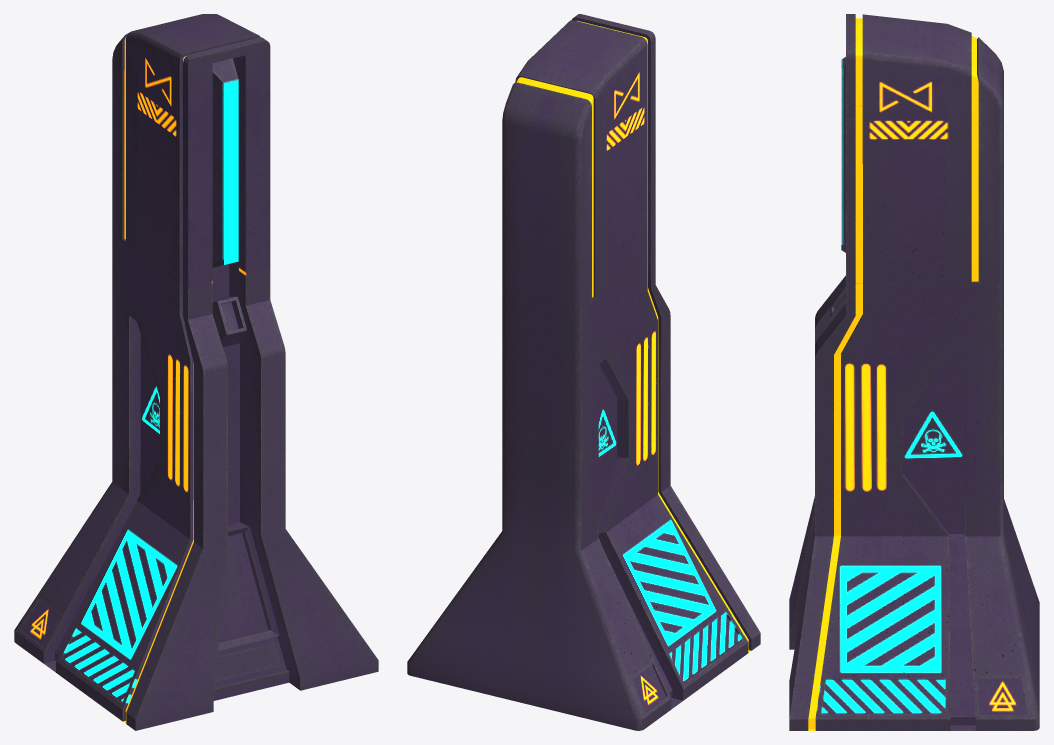
Rendered from gun_tower_plasma 1.fbx.
The picture shows the model from 3 angles, left to right: view 1: azimuth 30°, elevation 25°; view 2: azimuth 150°, elevation 25°; view 3: azimuth 270°, elevation 25°; orthographic projection. The views are drawn at different scales.
Visible parts, largest first — view 1: base, gun; view 2: base, gun; view 3: base, gun.
Part boxes in pixels (x1=…): base: x1=14, y1=234, x2=378, y2=730; gun: x1=112, y1=14, x2=270, y2=289; base: x1=407, y1=256, x2=760, y2=730; gun: x1=502, y1=14, x2=655, y2=309; base: x1=789, y1=275, x2=1039, y2=730; gun: x1=841, y1=14, x2=1003, y2=285.
Bounding box in the file's own units: 423 × 1050 × 372.
Materials: 1 (1 with a texture image).
